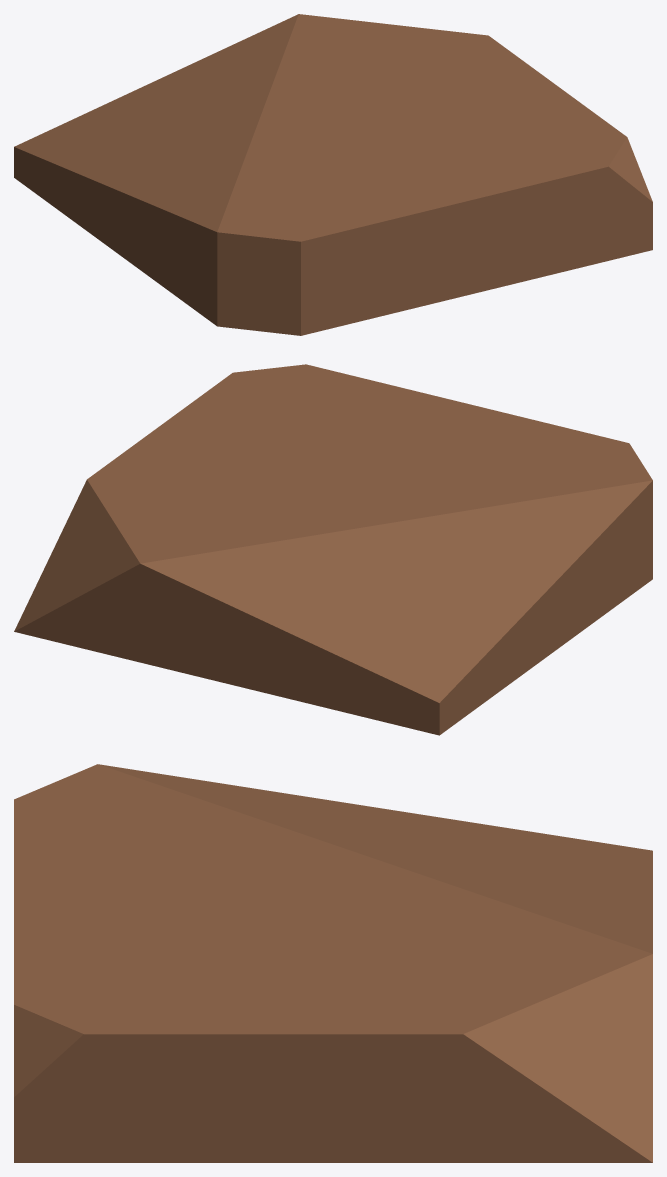
File: Stoneslab_005.FBX
The picture shows the model from 3 angles, top to bottom: view 1: azimuth 30°, elevation 25°; view 2: azimuth 150°, elevation 25°; view 3: azimuth 270°, elevation 25°; orthographic projection. The views are drawn at different scales.
Parts seen in each view (by area): view 1: Stoneslab_005; view 2: Stoneslab_005; view 3: Stoneslab_005.
Part boxes in pixels (x1,y1,x2,y2): Stoneslab_005: (14, 14, 652, 335); Stoneslab_005: (14, 364, 652, 735); Stoneslab_005: (14, 764, 652, 1162).
Bounding box in the file's own units: 17.72 × 3.94 × 17.72.
